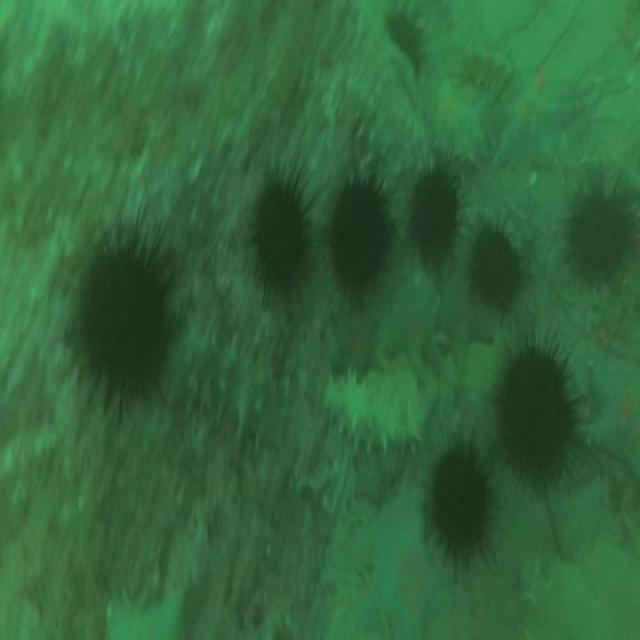echinus: (78, 242, 167, 404), (498, 345, 570, 477), (331, 178, 393, 290), (429, 446, 490, 553), (569, 185, 631, 281), (253, 187, 306, 289), (412, 169, 458, 256), (470, 224, 519, 305)
holothurian: (165, 321, 295, 444), (324, 371, 426, 449), (459, 35, 513, 98)
starfish: (367, 510, 446, 640), (494, 73, 576, 164), (586, 354, 640, 475), (436, 274, 490, 360), (430, 79, 482, 153), (387, 289, 437, 359), (330, 310, 377, 379)
